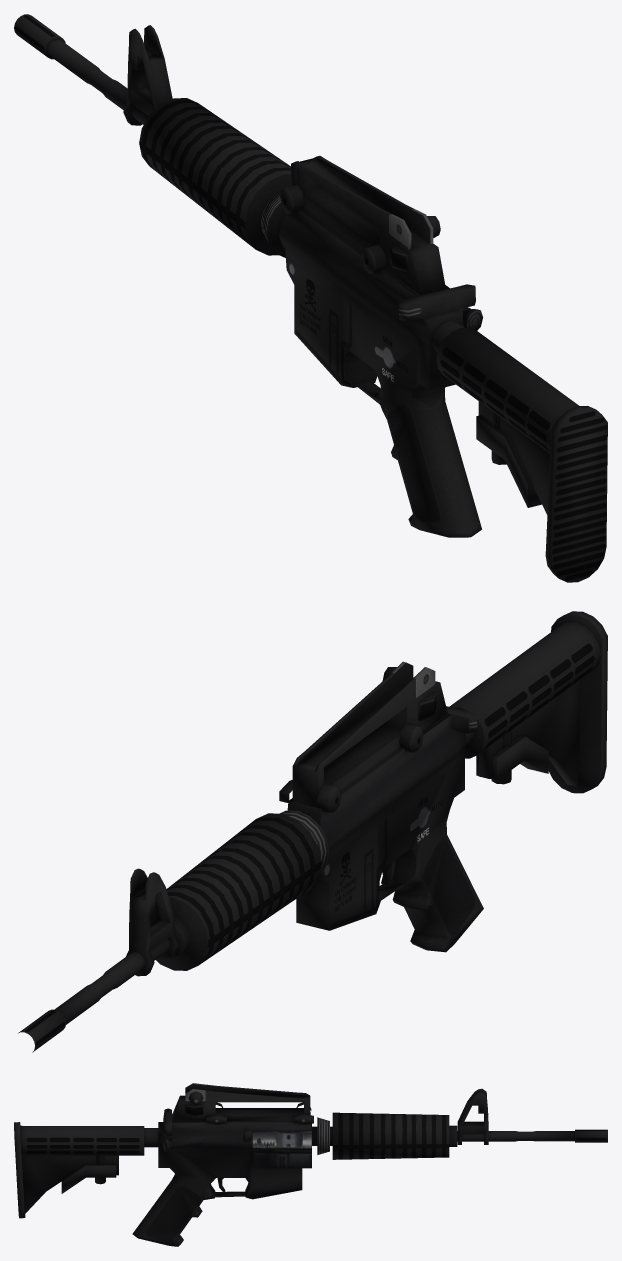
3 renders of one model, top to bottom at view 1: azimuth 30°, elevation 25°; view 2: azimuth 150°, elevation 25°; view 3: azimuth 270°, elevation 25°, orthographic. The views are drawn at different scales.
Parts seen in each view (by area): view 1: M4 Carbine; view 2: M4 Carbine; view 3: M4 Carbine.
Boxes of the visible parts, bbox=[...] form: M4 Carbine: bbox=[14, 14, 607, 582]; M4 Carbine: bbox=[18, 611, 607, 1052]; M4 Carbine: bbox=[14, 1083, 607, 1246].
Bounding box in the file's own units: 0.1696 × 0.5681 × 1.96.
Materials: 1 (1 with a texture image).
